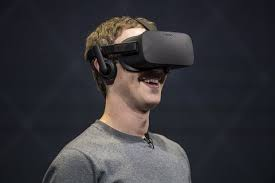oculus: (120, 30, 196, 73)
